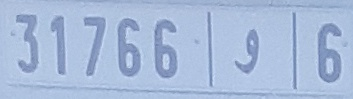1: (49, 14, 68, 76)
3: (13, 13, 41, 75)
6: (314, 21, 345, 84), (115, 17, 143, 78), (152, 18, 179, 80)
7: (82, 15, 108, 78)
waw: (232, 28, 262, 75)
